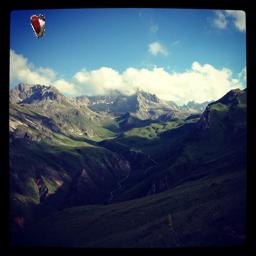Woodpecker: (29, 14, 45, 49)
